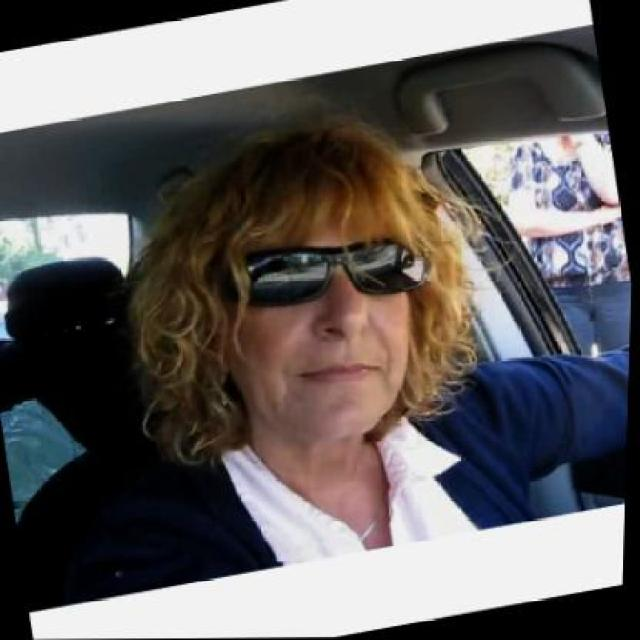attentif: (184, 110, 462, 461)
